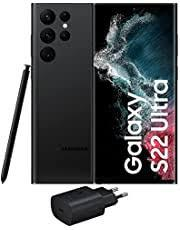Smartphone: (94, 1, 177, 187), (28, 0, 98, 181)
